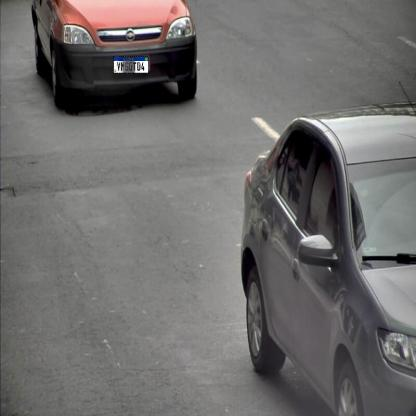PlacaM: (113, 56, 149, 74)
